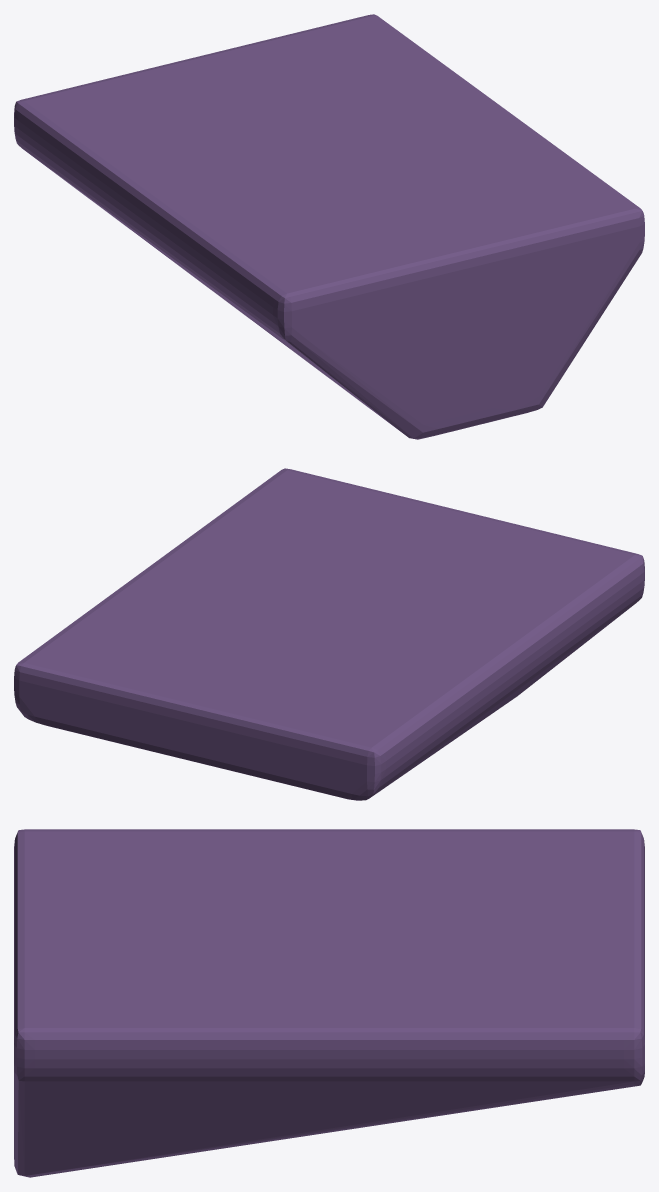
File: torso_link_part_1.obj
The picture shows the model from 3 angles, top to bottom: view 1: azimuth 30°, elevation 25°; view 2: azimuth 150°, elevation 25°; view 3: azimuth 270°, elevation 25°; orthographic projection. The views are drawn at different scales.
Bounding box in the file's own units: 0.1495 × 0.0701 × 0.1919.
